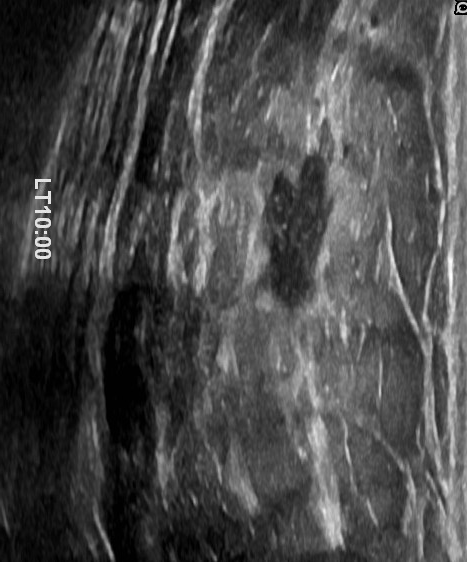Malignant: (248, 157, 342, 311)
